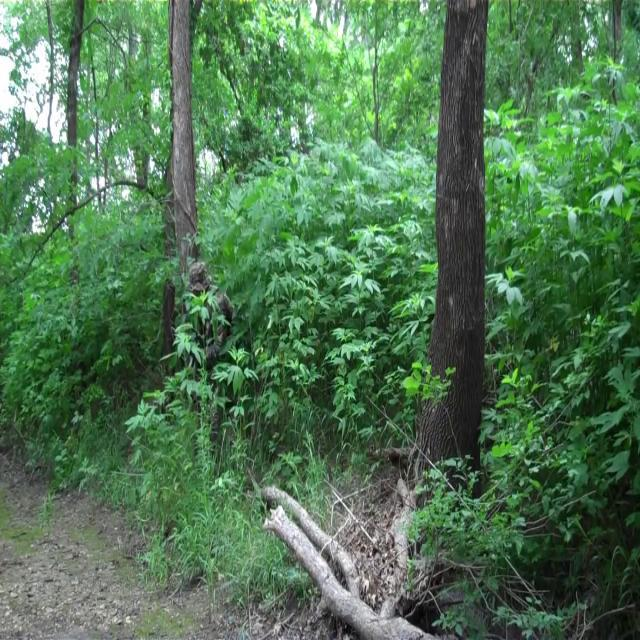MIL_Pax: (175, 256, 235, 454)
